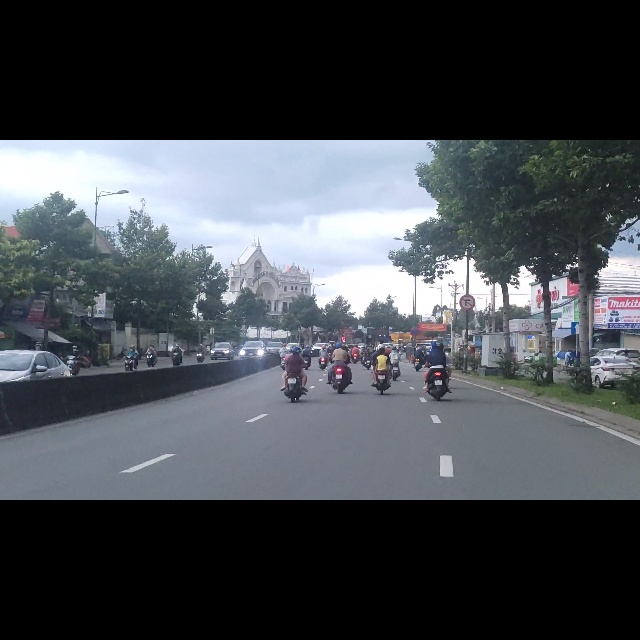bien_cam: (460, 274, 475, 303)
